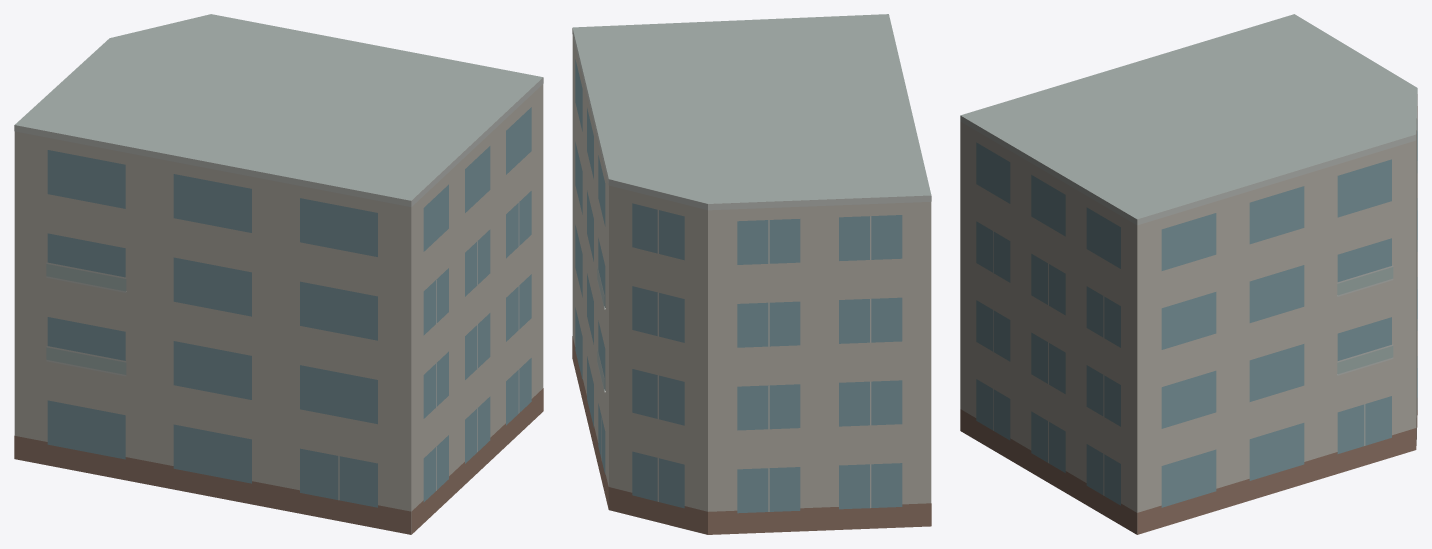
File: survey-upis-32690983.glb
3 renders of one model, left to right at view 1: azimuth 30°, elevation 25°; view 2: azimuth 150°, elevation 25°; view 3: azimuth 270°, elevation 25°, orthographic. The views are drawn at different scales.
Parts seen in each view (by area): view 1: survey-upis-32690983.tmp; view 2: survey-upis-32690983.tmp; view 3: survey-upis-32690983.tmp.
Boxes of the visible parts, x1=… form: survey-upis-32690983.tmp: x1=14, y1=14, x2=543, y2=534; survey-upis-32690983.tmp: x1=572, y1=14, x2=931, y2=534; survey-upis-32690983.tmp: x1=960, y1=14, x2=1417, y2=534.
Bounding box in the file's own units: 17.88 × 12.8 × 16.83.
